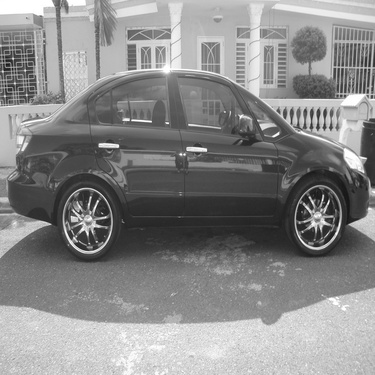car: (4, 61, 371, 259)
